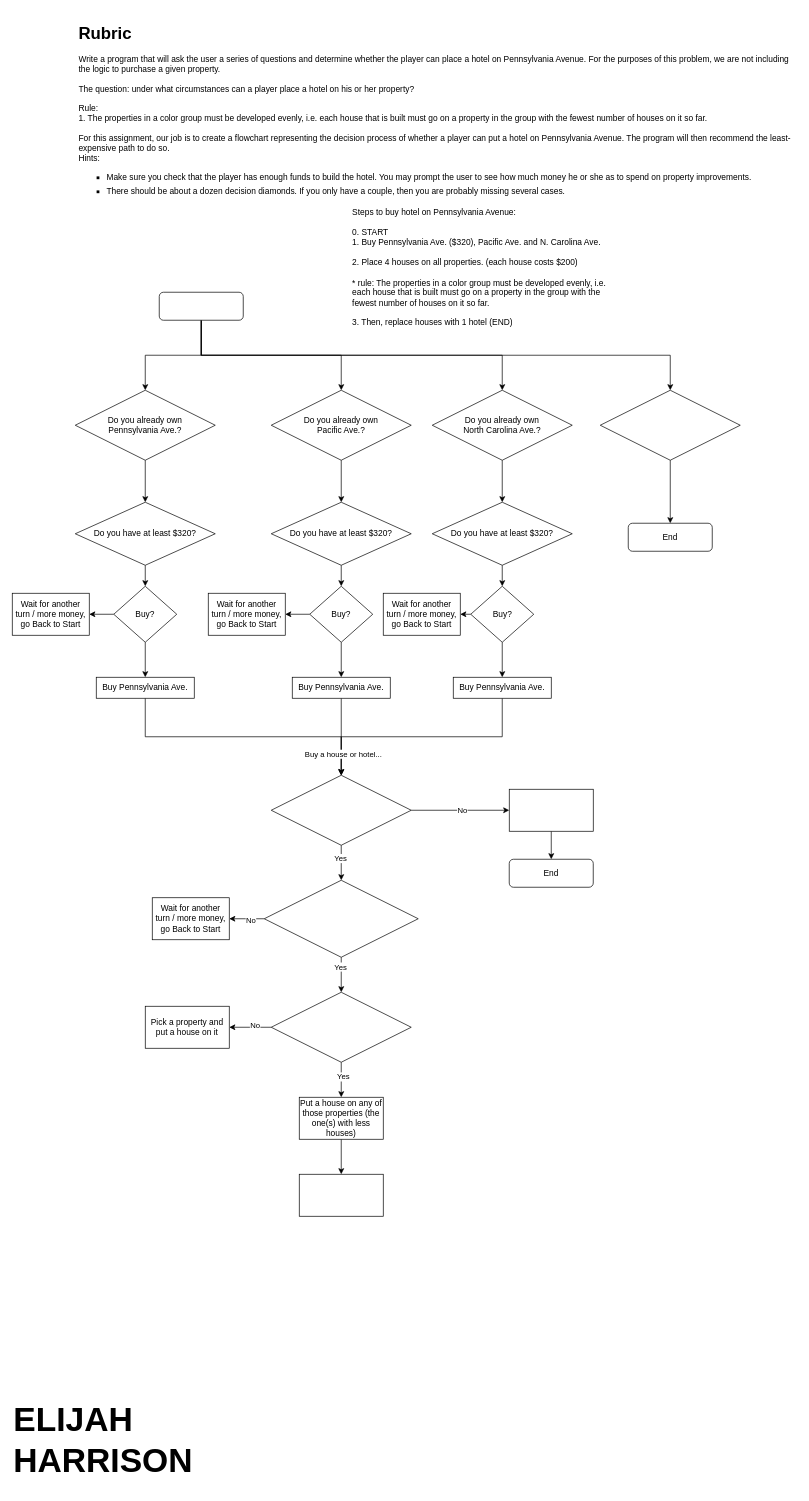
This 809x1501 diagram has some shape labels left out. Here are the shapes that lost their labels. From the top down, the box of each, then its label:
(159, 292, 243, 320): Start
(600, 390, 740, 460): Bankrupt?
(271, 775, 411, 845): Does any property have less than 4 houses?
(509, 789, 593, 831): Put a hotel on Pennsylvania Ave. (Success!)
(264, 880, 418, 957): Can you afford a new house? (do you have more than $200)
(271, 992, 411, 1062): Do any properties have less houses than the others?
(299, 1174, 383, 1216): Back to Start
